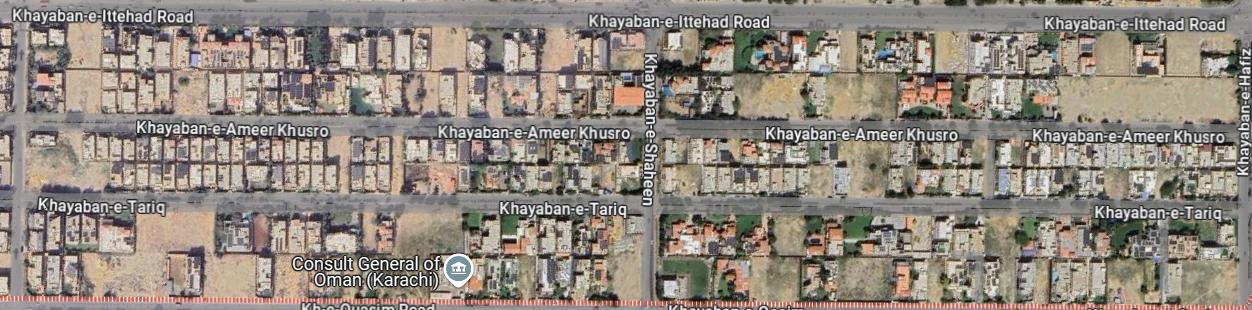Buildings: (28, 23, 646, 119), (23, 209, 645, 304), (658, 24, 1241, 122), (656, 219, 1241, 305), (23, 133, 646, 199), (655, 141, 1241, 201)
